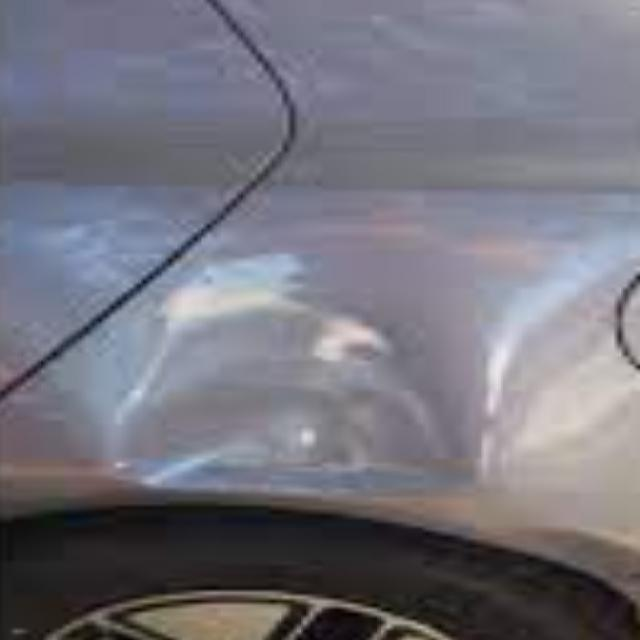dents: (121, 266, 531, 496)
